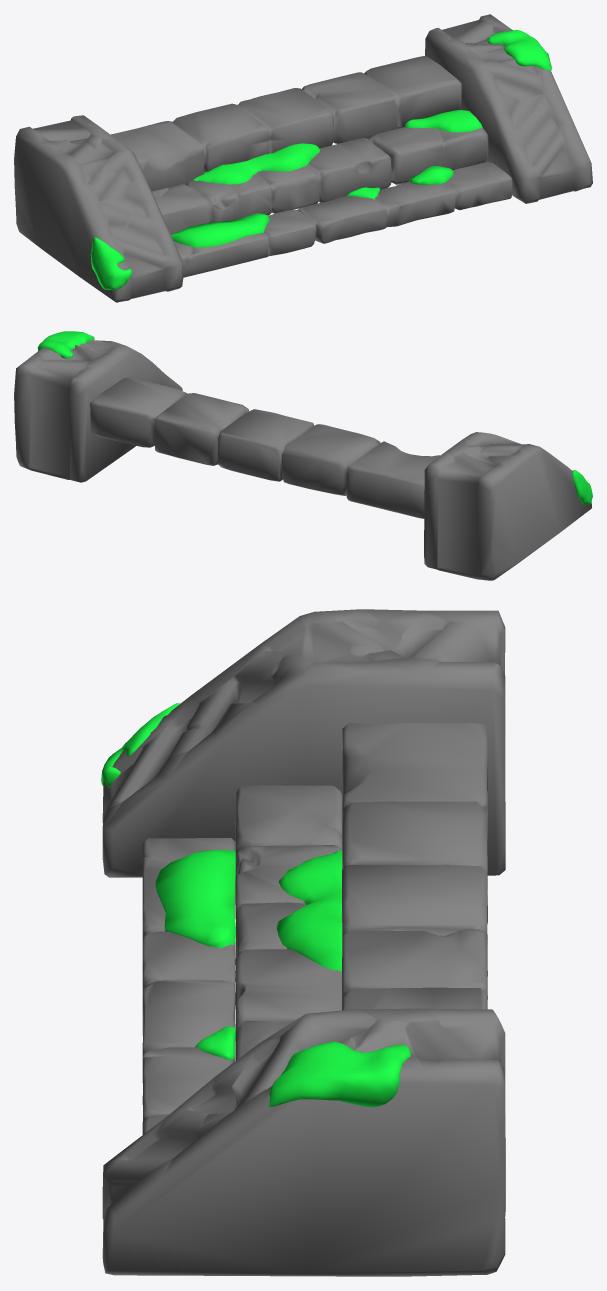
The model's file is Stairs2.fbx.
The picture shows the model from 3 angles, top to bottom: view 1: azimuth 30°, elevation 25°; view 2: azimuth 150°, elevation 25°; view 3: azimuth 270°, elevation 25°; orthographic projection. The views are drawn at different scales.
Visible parts, largest first — view 1: Stairs, moss; view 2: Stairs, moss; view 3: Stairs, moss.
Part boxes in pixels (x1=…): Stairs: x1=14, y1=14, x2=592, y2=302; moss: x1=90, y1=30, x2=551, y2=289; Stairs: x1=14, y1=339, x2=591, y2=580; moss: x1=37, y1=331, x2=592, y2=505; Stairs: x1=102, y1=609, x2=505, y2=1276; moss: x1=101, y1=703, x2=410, y2=1107.
Bounding box in the file's own units: 711 × 149 × 254.
